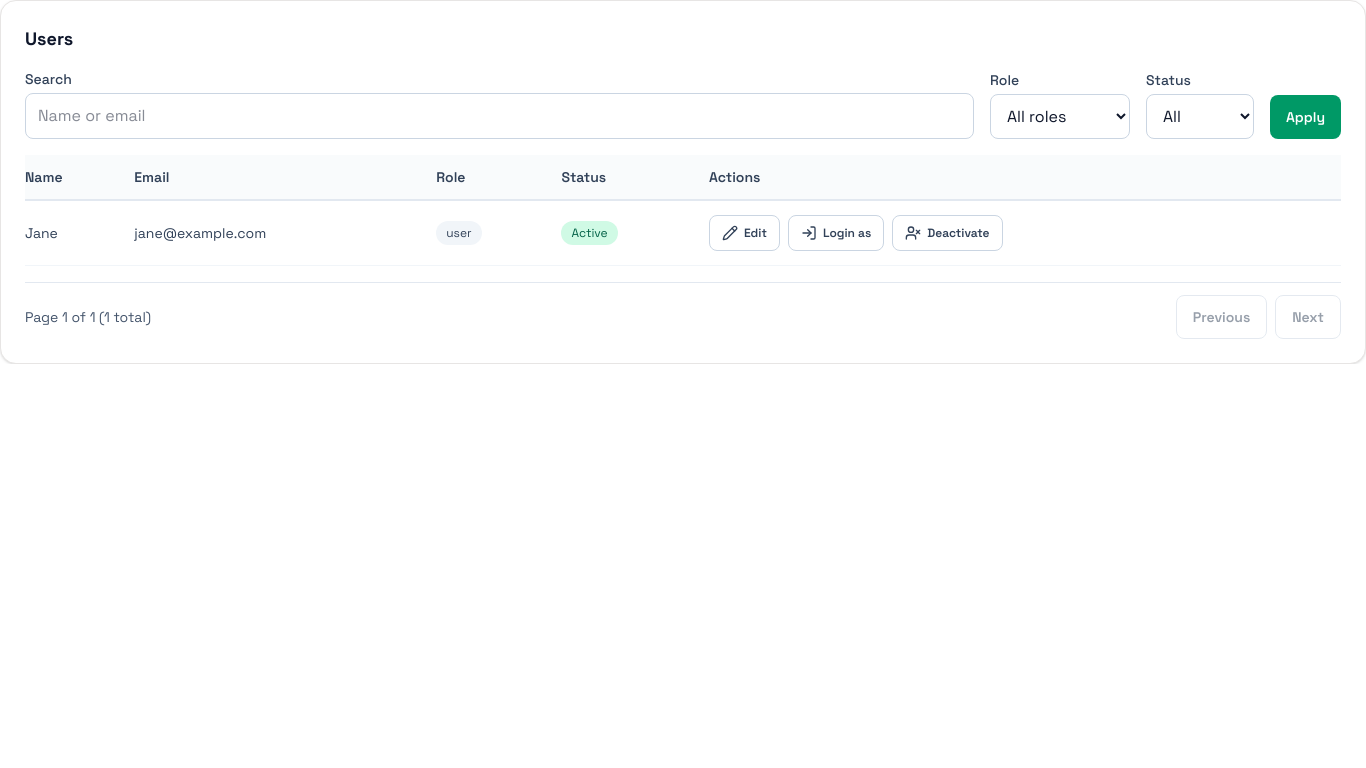
Test case: UsersPage › edit modal save succeeds and closes
This screenshot has width=1366, height=768.
Click the button "Edit": (744, 233) [709,215,780,251]
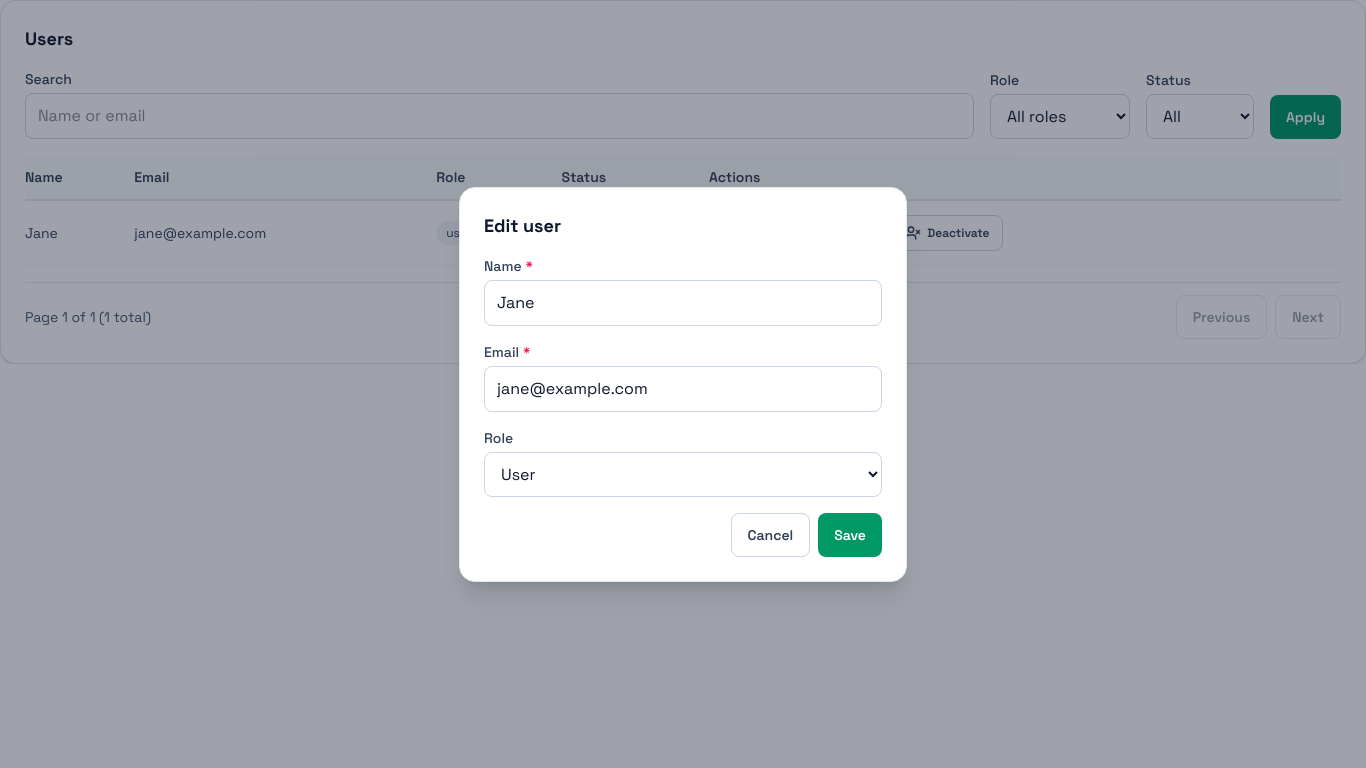
expect the dialog "Edit user Name* Email* Role Cancel Save" is shown: met
Replace the text in the field labelled "Name*" with "Jane Updated": (683, 302) [484,280,882,326]
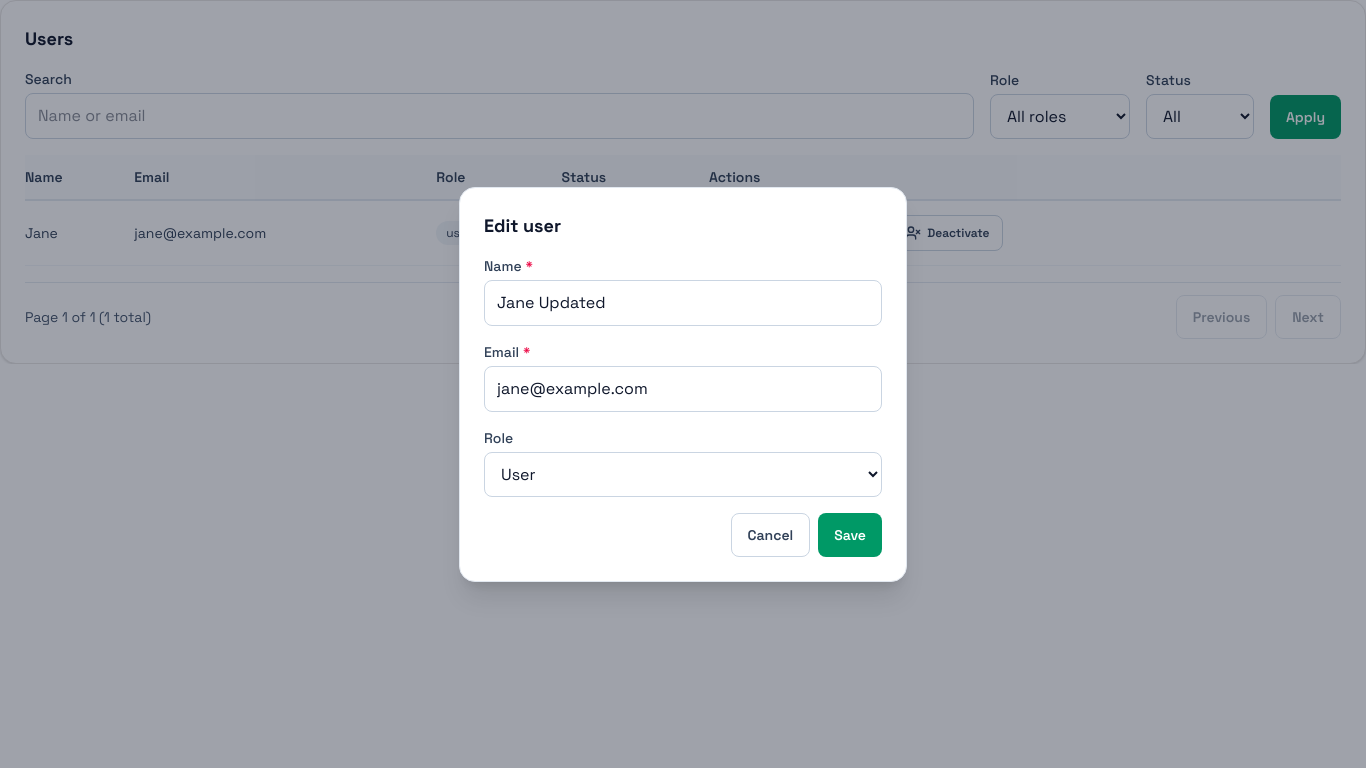
Click the button "Save": (850, 534) [818,512,882,556]
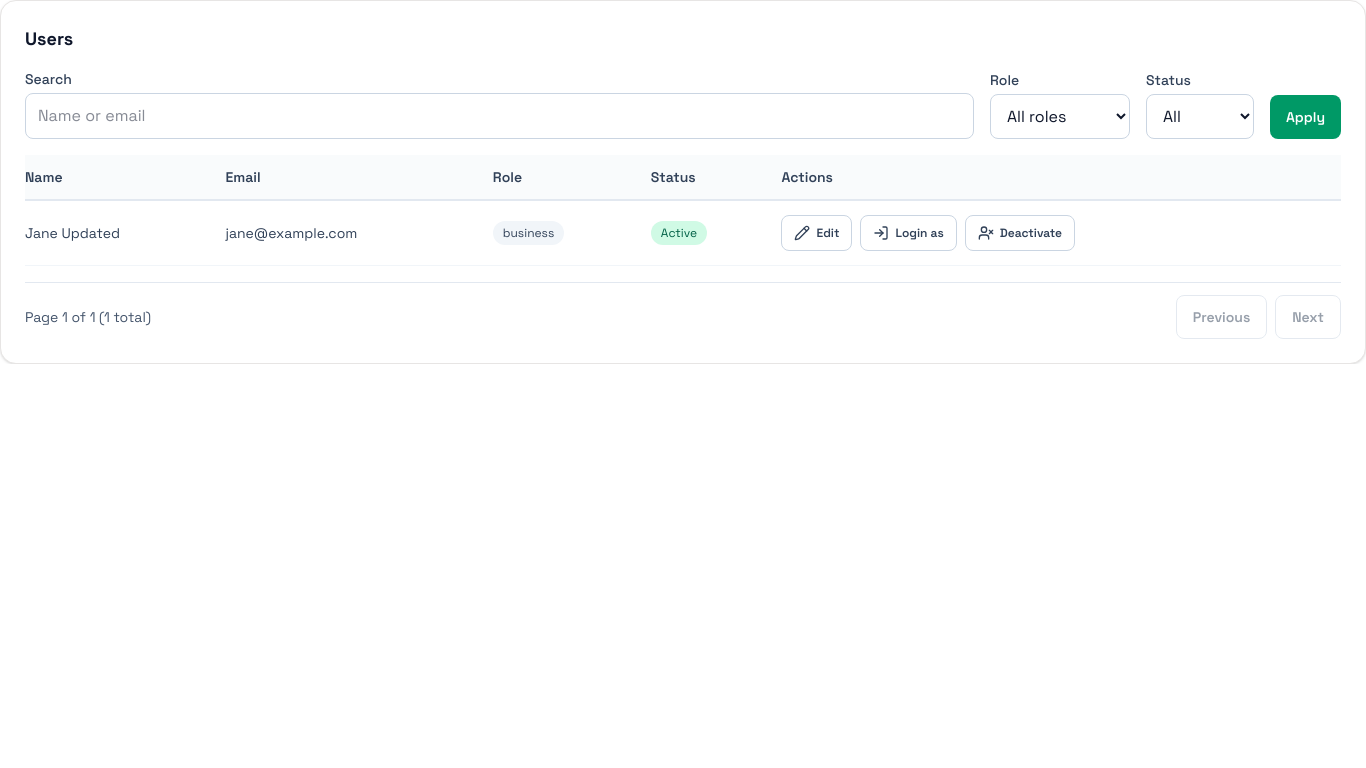
expect the heading "Edit user" is gone: met
